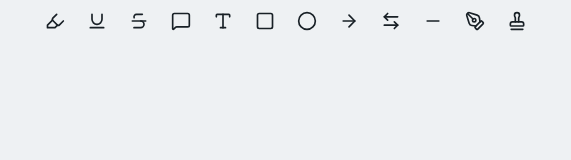
AnnotationToolbar › 点击工具按钮 arm 该工具并显示取消按钮
Click the 1st button named "高亮": (55, 21) [39,4,71,38]
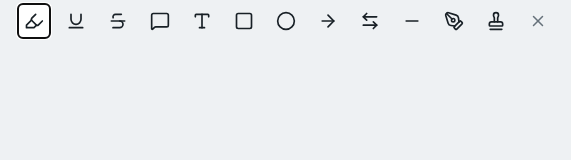
Expected: the button named "取消当前批注工具" is shown, [522,4,554,38]
